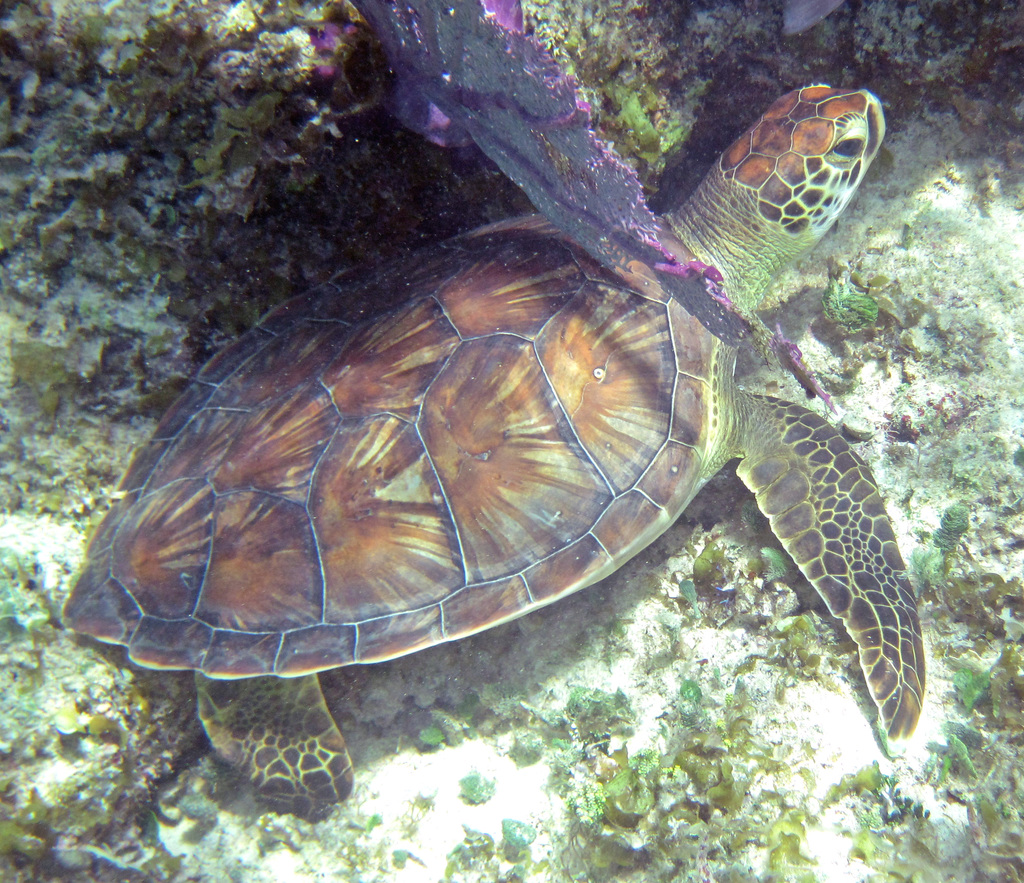Sea turtles: (60, 81, 932, 810)
